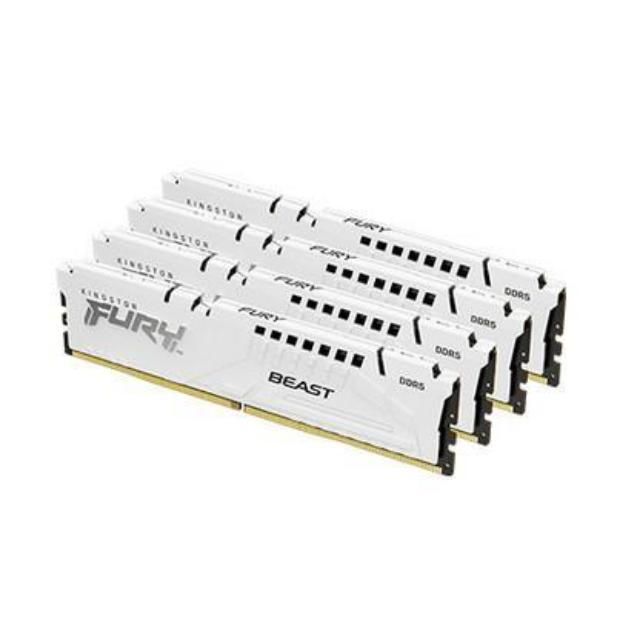RAM: (48, 153, 588, 482)
